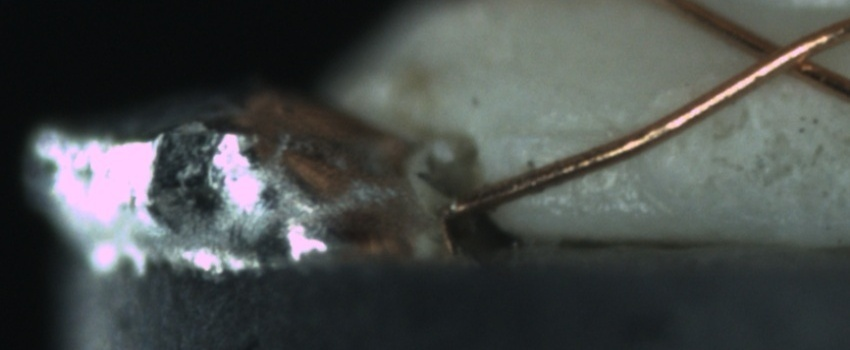CL: (734, 22, 840, 88)
DL: (494, 98, 635, 163)
